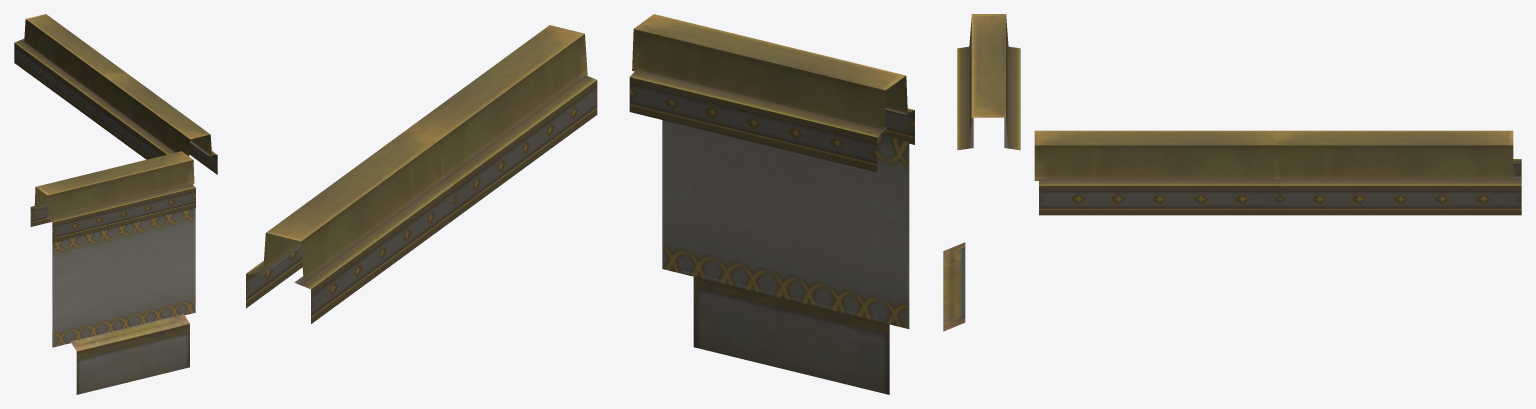
The model's file is WC_dangqiang01.FBX.
The picture shows the model from 3 angles, left to right: view 1: azimuth 30°, elevation 25°; view 2: azimuth 150°, elevation 25°; view 3: azimuth 270°, elevation 25°; orthographic projection. The views are drawn at different scales.
Parts seen in each view (by area): view 1: WC_dangqiang01_001, WC_dangqiang01_002; view 2: WC_dangqiang01_001, WC_dangqiang01_002; view 3: WC_dangqiang01_002, WC_dangqiang01_001.
Part boxes in pixels (x1=…): WC_dangqiang01_001: x1=30, y1=151, x2=195, y2=394; WC_dangqiang01_002: x1=14, y1=14, x2=217, y2=174; WC_dangqiang01_001: x1=629, y1=14, x2=914, y2=394; WC_dangqiang01_002: x1=246, y1=25, x2=597, y2=323; WC_dangqiang01_002: x1=1034, y1=130, x2=1521, y2=215; WC_dangqiang01_001: x1=943, y1=14, x2=1020, y2=331.
Bounding box in the file's own units: 448 × 436 × 798.
